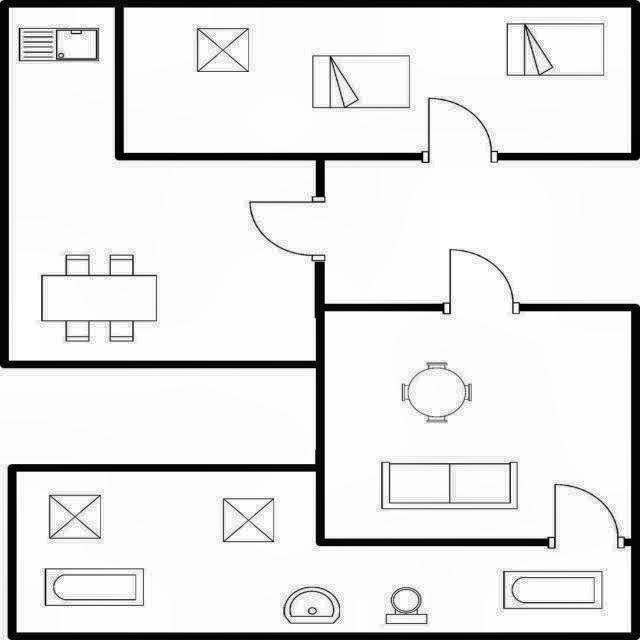room: (8, 8, 316, 360), (16, 471, 631, 633), (124, 7, 631, 153), (325, 311, 631, 539)
